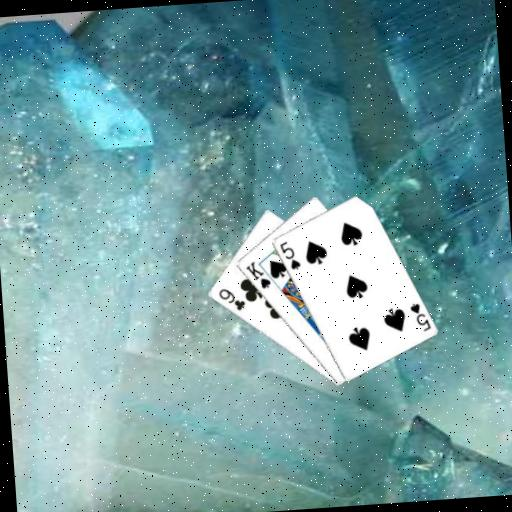5S: (276, 237, 302, 272), (406, 299, 432, 334)
9C: (215, 284, 247, 314)
KS: (242, 258, 273, 292)
